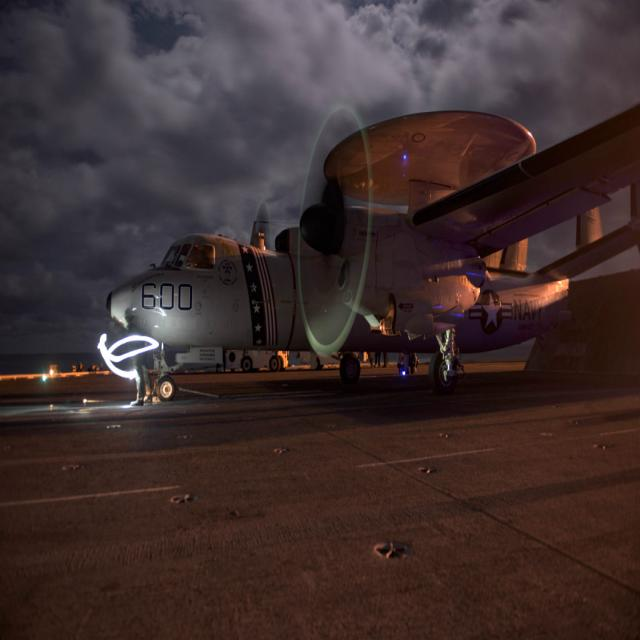MIL_Plane: (106, 52, 640, 351)
